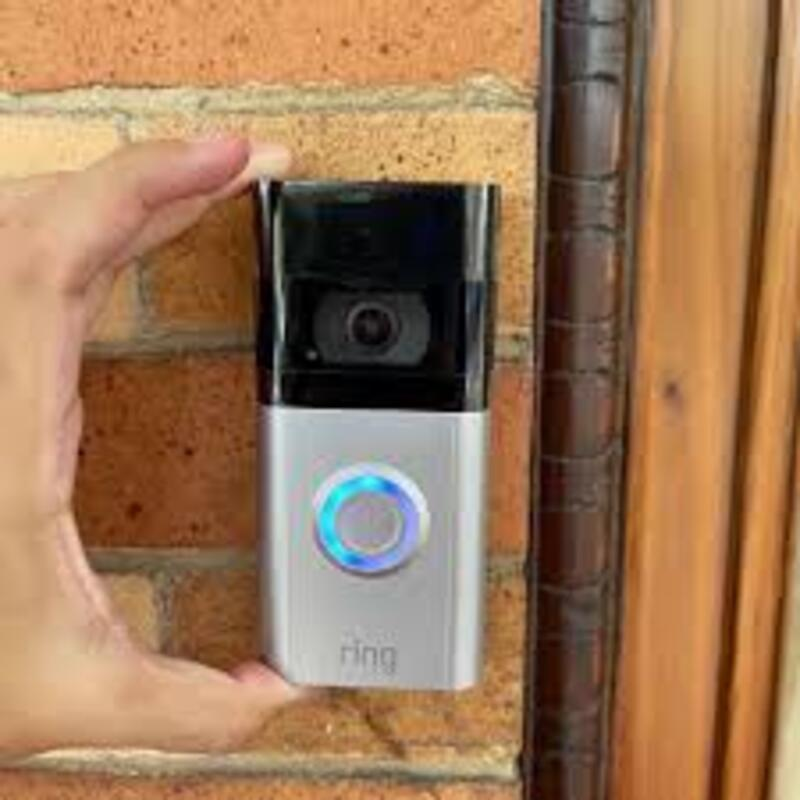doorbell: (241, 163, 499, 713)
